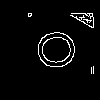O: (27, 28, 77, 72)
